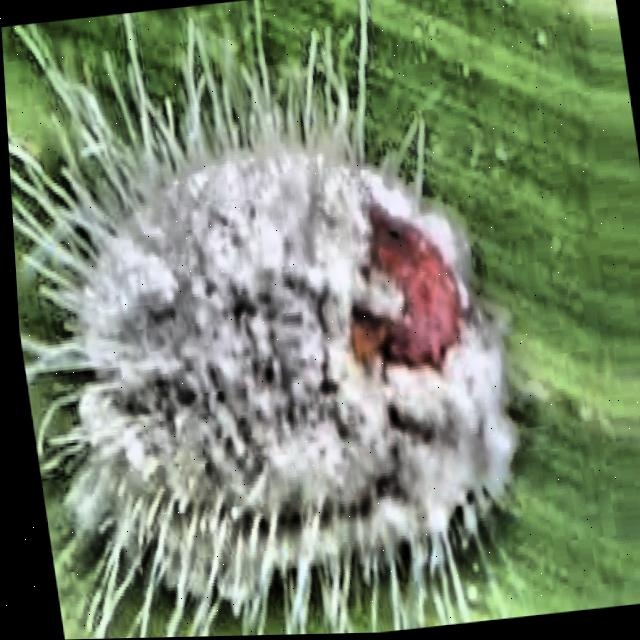Mealy-bug: (0, 0, 584, 640)
